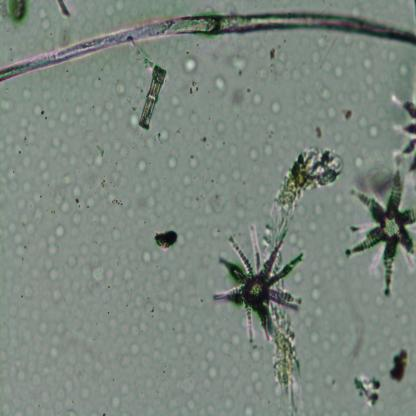Background material: (0, 70, 259, 416), (0, 262, 144, 415), (88, 168, 154, 264), (134, 326, 202, 412), (275, 332, 341, 409), (158, 178, 228, 248), (79, 91, 138, 167), (245, 34, 321, 89), (264, 85, 315, 148), (191, 128, 244, 184), (344, 68, 389, 117), (139, 62, 166, 132), (159, 275, 196, 319), (353, 370, 382, 408), (387, 346, 413, 386), (154, 225, 180, 249), (9, 222, 26, 256), (3, 1, 30, 21), (245, 370, 264, 397), (20, 116, 36, 144), (54, 0, 74, 20), (53, 193, 72, 214), (171, 93, 186, 118), (5, 166, 19, 192), (378, 46, 398, 64), (44, 260, 60, 282), (333, 131, 347, 155), (44, 92, 58, 116), (183, 54, 198, 76), (326, 372, 340, 395), (46, 235, 60, 258), (230, 54, 250, 70), (236, 191, 245, 222), (214, 77, 228, 96), (128, 112, 140, 132), (144, 300, 156, 320), (314, 34, 328, 50), (309, 286, 323, 302), (368, 122, 381, 139), (357, 114, 370, 131), (32, 102, 43, 122), (270, 97, 282, 115), (312, 272, 324, 290), (119, 381, 131, 398), (399, 312, 412, 327), (312, 202, 324, 218), (293, 270, 305, 286), (207, 364, 218, 381), (188, 156, 201, 170), (251, 92, 264, 106), (342, 107, 355, 121), (381, 323, 393, 338), (268, 44, 278, 62), (53, 223, 64, 239), (251, 347, 262, 363), (230, 333, 241, 349), (309, 331, 320, 347), (79, 243, 90, 259), (218, 171, 229, 187), (50, 135, 62, 149), (193, 332, 205, 346), (72, 186, 84, 200), (248, 148, 260, 162), (319, 90, 333, 102), (52, 289, 64, 303), (158, 128, 170, 142), (22, 180, 33, 195), (38, 157, 49, 172), (94, 152, 104, 168), (80, 386, 90, 402), (314, 306, 324, 322), (317, 110, 330, 122), (322, 60, 333, 74), (263, 143, 274, 157), (205, 349, 215, 364), (74, 104, 84, 119), (363, 56, 373, 71), (399, 62, 409, 77), (327, 107, 337, 122), (142, 250, 152, 265), (110, 397, 121, 410), (216, 122, 227, 135), (116, 82, 127, 95), (354, 156, 364, 170), (288, 233, 298, 247), (349, 131, 359, 145), (137, 160, 147, 174), (396, 296, 405, 311), (21, 88, 32, 100), (41, 18, 52, 30), (37, 7, 47, 20), (334, 65, 344, 78), (344, 31, 353, 45), (106, 268, 115, 282), (129, 343, 140, 354), (73, 214, 83, 226), (243, 405, 254, 415), (168, 157, 178, 168), (183, 176, 193, 187), (160, 320, 167, 332)
Cellulose filter fibre: (264, 153, 334, 414)
Diatom: (210, 222, 307, 344), (344, 168, 416, 299), (391, 91, 416, 179)
Microfibre: (0, 11, 416, 84)
